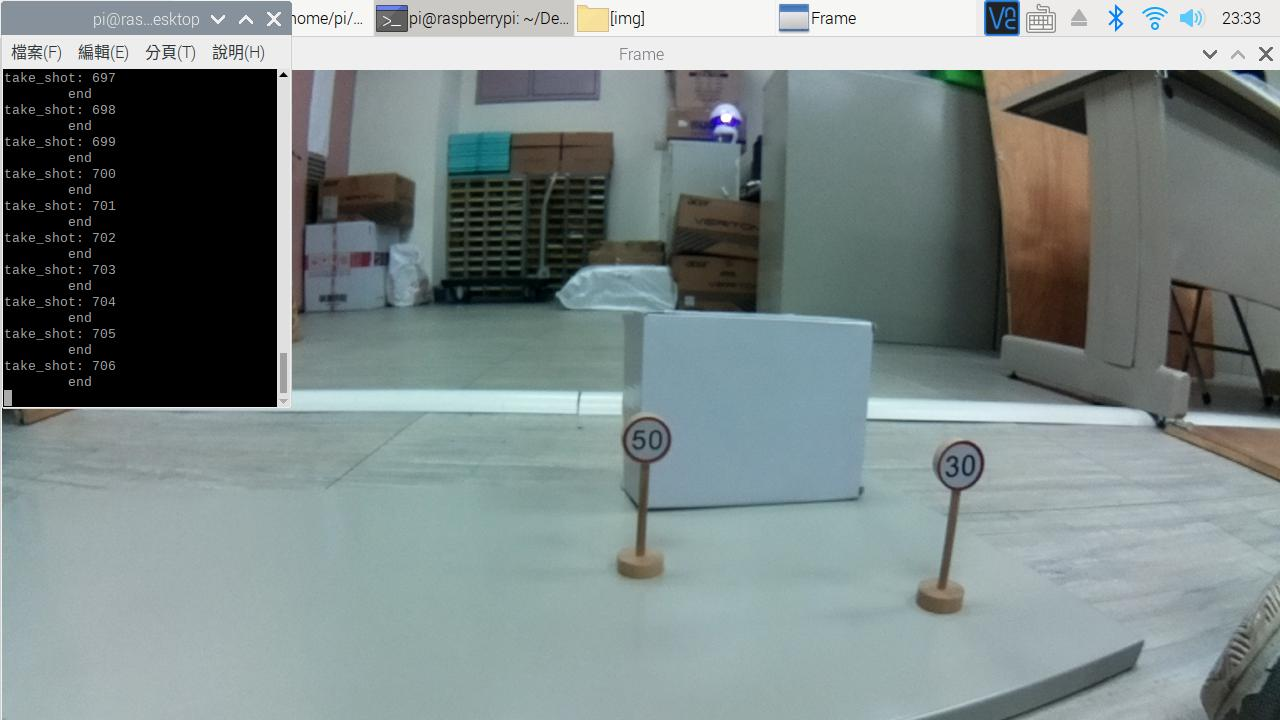Speed30: (926, 430, 999, 500)
Speed50: (620, 409, 682, 473)
